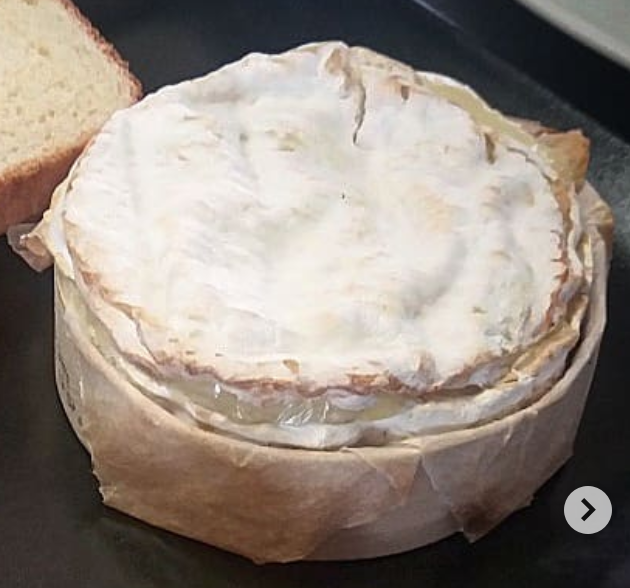camembert: (54, 39, 602, 485)
